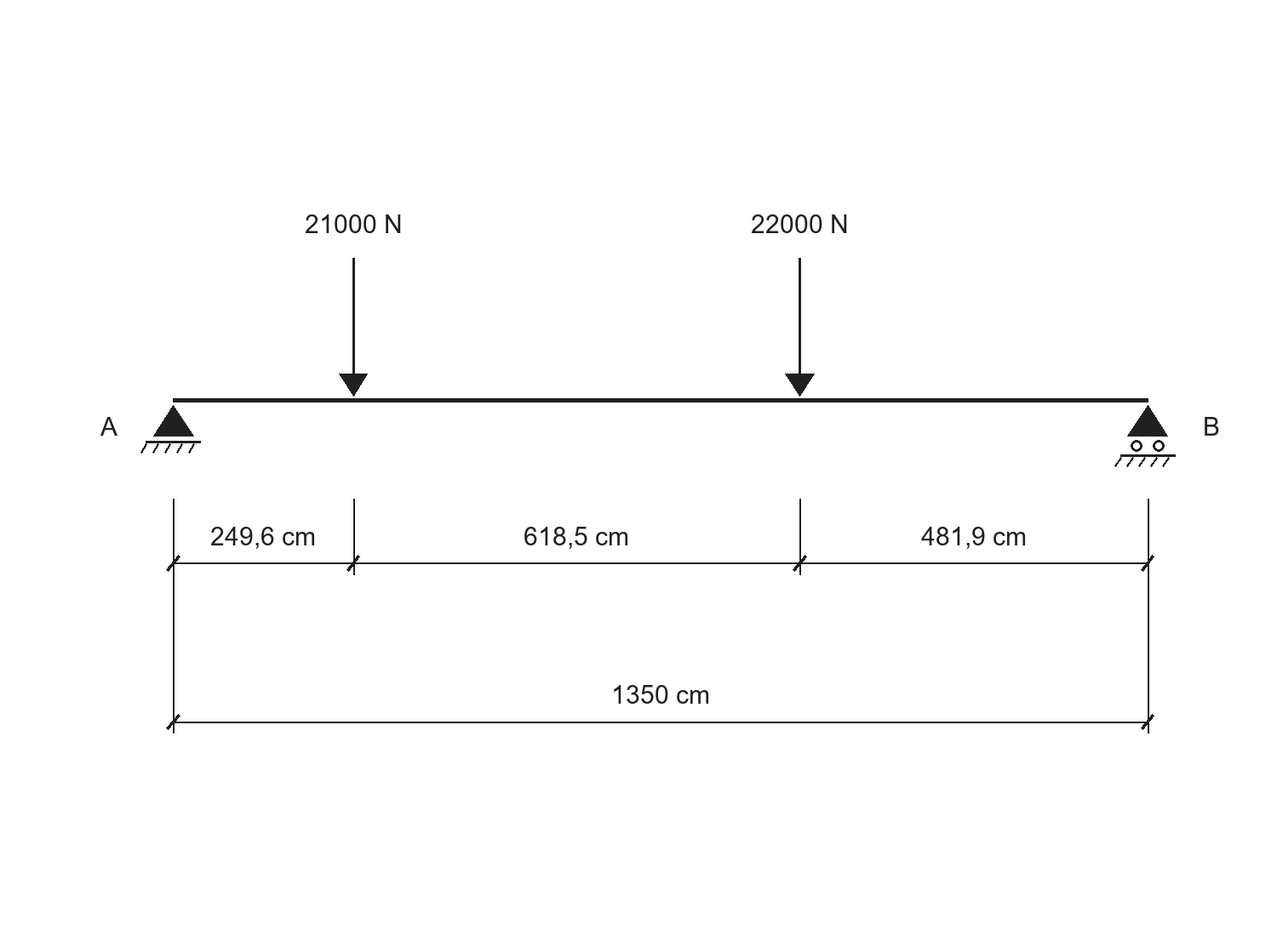pin_support: (140, 405, 201, 454)
point_load: (785, 258, 815, 397), (339, 258, 368, 397)
roller_support: (1114, 405, 1176, 467)
